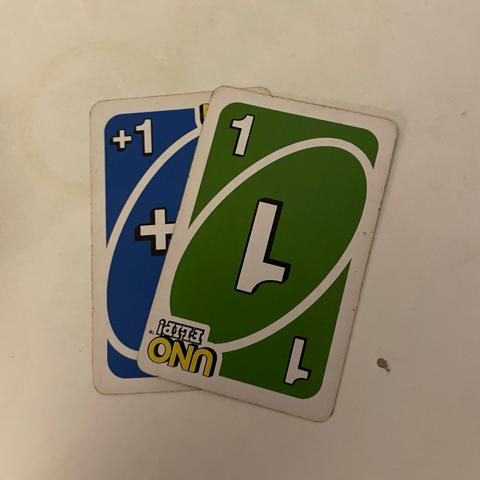lblue-10: (103, 110, 169, 164)
lgreen-1: (215, 107, 272, 168)
